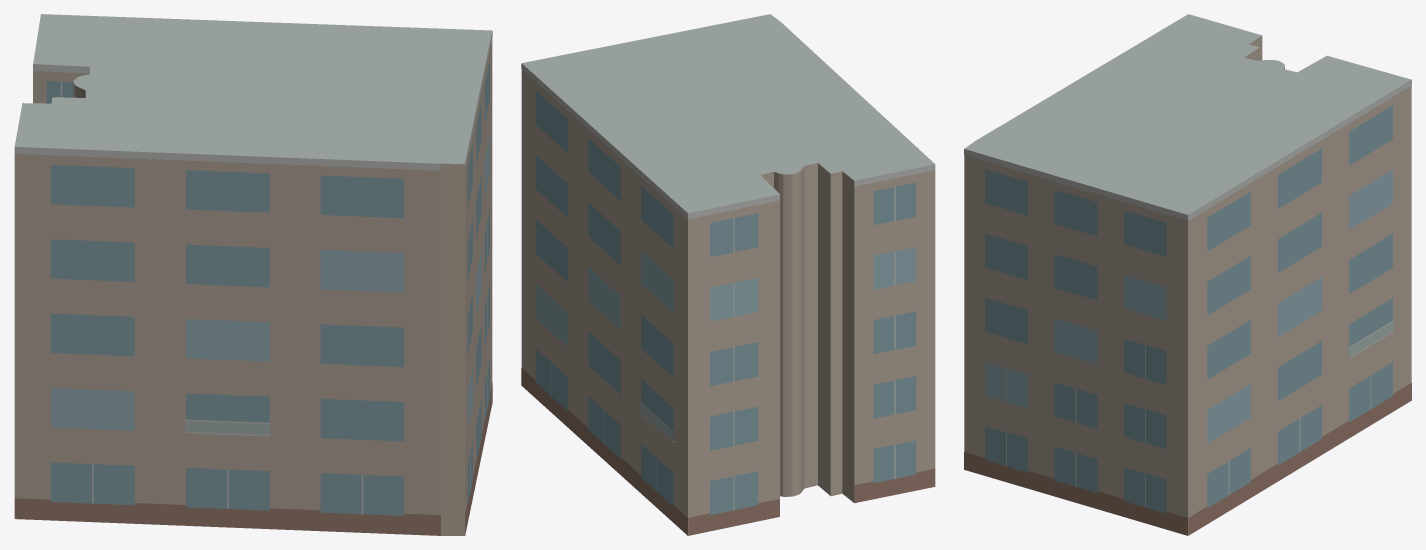
Rendered from survey-upis-32861371.glb.
3 renders of one model, left to right at view 1: azimuth 30°, elevation 25°; view 2: azimuth 150°, elevation 25°; view 3: azimuth 270°, elevation 25°, orthographic. The views are drawn at different scales.
Visible parts, largest first — view 1: survey-upis-32861371.tmp; view 2: survey-upis-32861371.tmp; view 3: survey-upis-32861371.tmp.
Part boxes in pixels (x1=…): survey-upis-32861371.tmp: x1=14, y1=14, x2=492, y2=535; survey-upis-32861371.tmp: x1=521, y1=14, x2=935, y2=535; survey-upis-32861371.tmp: x1=964, y1=14, x2=1411, y2=535.
Size of the model in its own units: 17.53 by 13.04 by 16.49.
